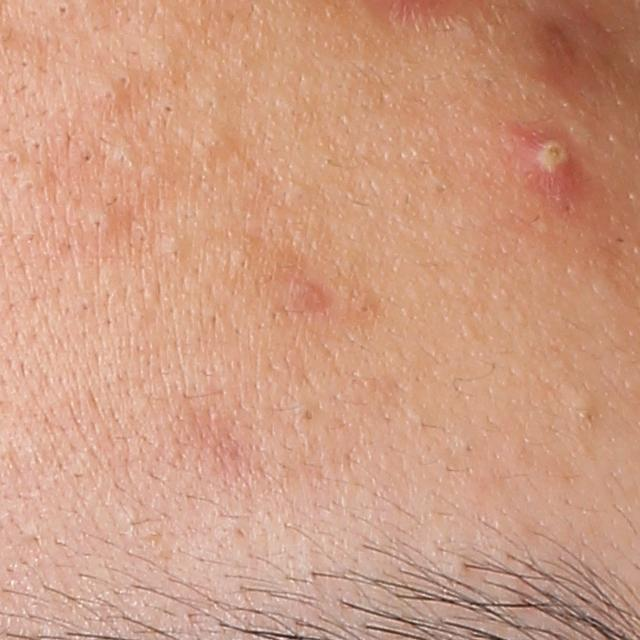comedo: (574, 392, 604, 429), (83, 208, 116, 235), (164, 235, 187, 260), (158, 99, 181, 120), (1, 147, 22, 168), (300, 405, 318, 424)
pustule: (523, 126, 588, 198)
